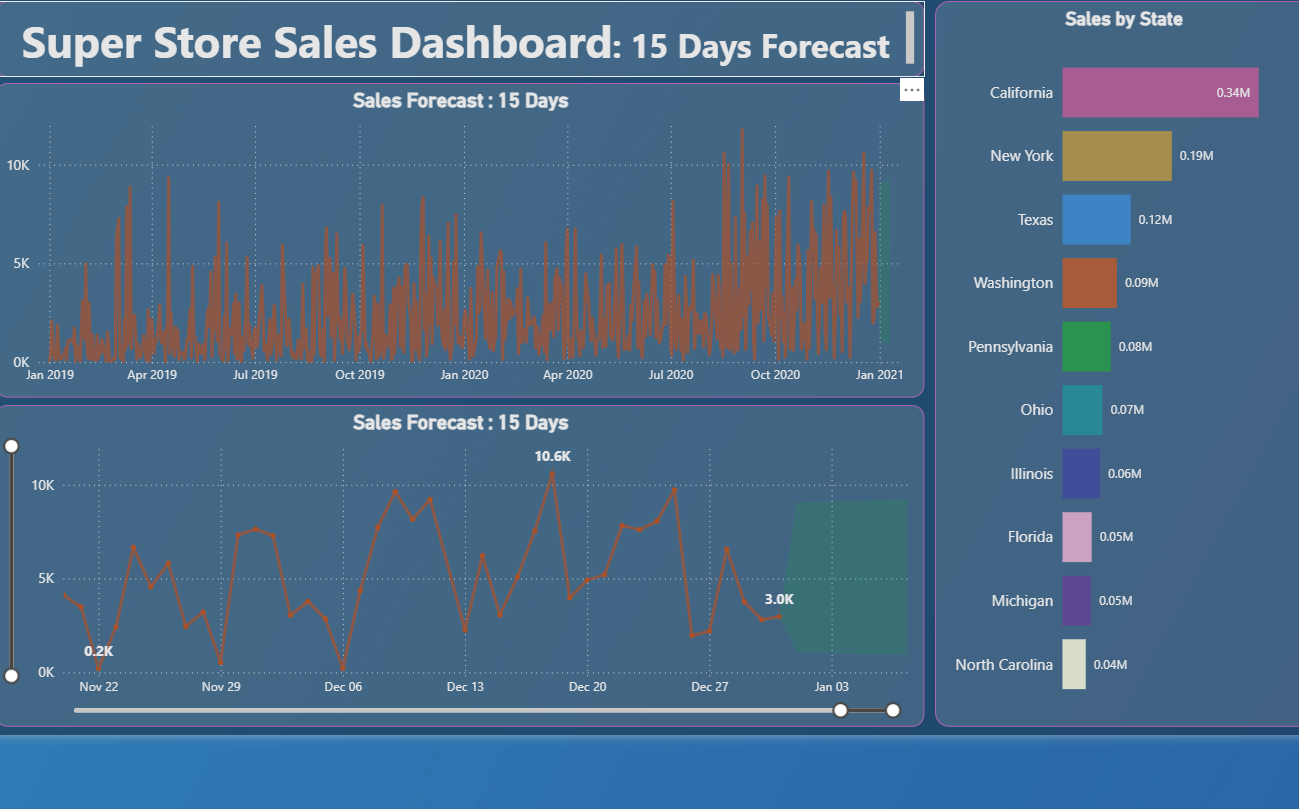

Layout of this report page (visuals, bound fields, positions):
{"tool":"powerbi","page":{"name":"Sales Forecast","canvas":[1280,720],"ordinal":1},"visuals":[{"type":"lineChart","title":"Sales Forecast : 15 Days","fields":{"Y":["Sum(Sheet1.Sales)"],"Category":["Sheet1.Order Date"]},"box":[0,86,904.4,306.4],"z":0},{"type":"textbox","box":[0,6.1,904.4,73.8],"z":1000},{"type":"lineChart","title":"Sales Forecast : 15 Days","fields":{"Y":["Sum(Sheet1.Sales)"],"Category":["Sheet1.Order Date"]},"box":[0,398.6,904.4,313.5],"z":2000},{"type":"clusteredBarChart","title":"Sales by State","fields":{"Category":["Sheet1.State"],"Y":["Sum(Sheet1.Sales)"]},"box":[914,6.1,366.1,706],"z":3000}]}

Visuals, with their boxes in screenshot pixels (x1, y1, x2, y2):
"Sales Forecast : 15 Days" lineChart: pyautogui.locateOnScreen(14, 79, 919, 386)
textbox: pyautogui.locateOnScreen(14, 0, 919, 73)
"Sales Forecast : 15 Days" lineChart: pyautogui.locateOnScreen(14, 392, 919, 706)
"Sales by State" clusteredBarChart: pyautogui.locateOnScreen(928, 0, 1295, 706)
